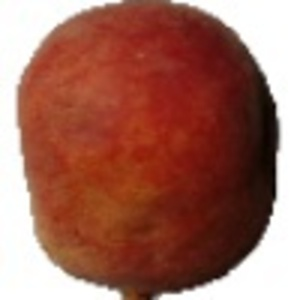pêssego: (14, 1, 280, 300)
